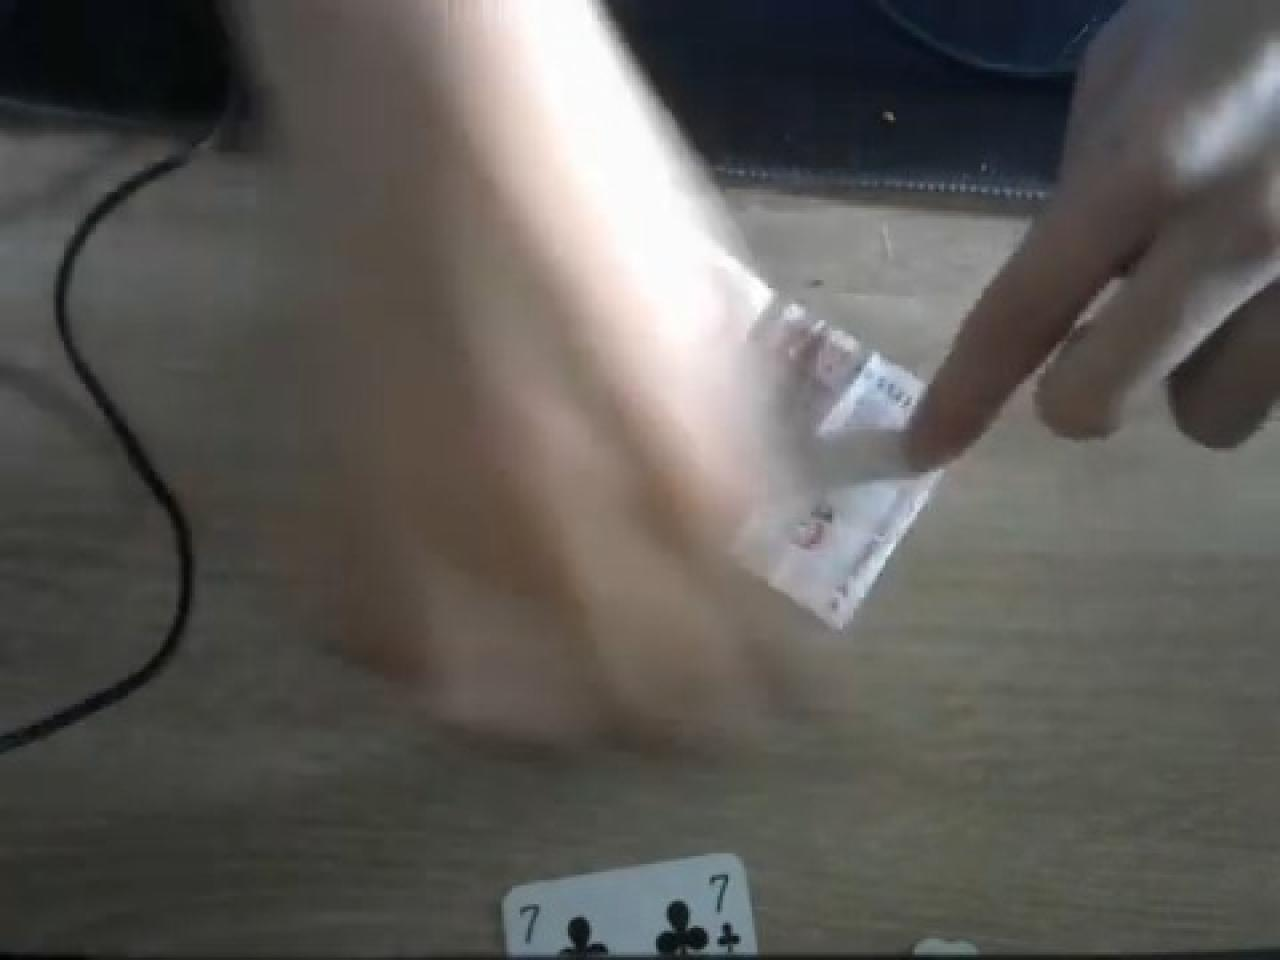5leva: (734, 469, 949, 634)
